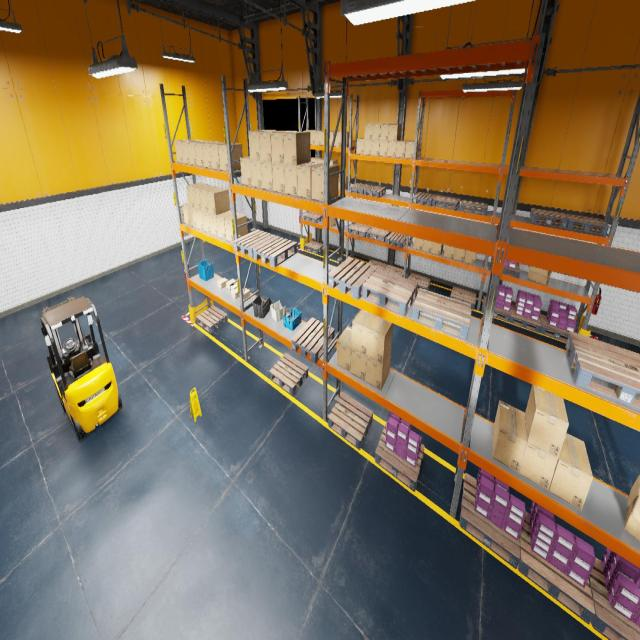box: (549, 433, 593, 510), (525, 385, 569, 458), (519, 413, 558, 490), (492, 400, 527, 472), (367, 316, 392, 364), (365, 347, 391, 390), (352, 309, 376, 355), (624, 474, 640, 541), (311, 164, 338, 202), (297, 162, 323, 198), (283, 132, 310, 164), (270, 131, 296, 164), (259, 130, 283, 162), (336, 325, 352, 372), (224, 213, 248, 243), (218, 143, 243, 171), (209, 142, 233, 170), (206, 187, 230, 215), (248, 130, 269, 160), (216, 210, 237, 240), (192, 184, 214, 210), (199, 186, 220, 213), (202, 142, 222, 168), (194, 141, 214, 167), (187, 140, 207, 166), (186, 183, 206, 208), (351, 348, 366, 381), (527, 266, 552, 285), (181, 140, 200, 164), (174, 139, 193, 163), (272, 162, 285, 194), (284, 164, 297, 196), (260, 161, 272, 191), (250, 160, 262, 188), (240, 157, 251, 186), (405, 140, 418, 159), (388, 124, 402, 140), (396, 140, 408, 158), (364, 124, 377, 140), (209, 214, 218, 236), (194, 208, 203, 230), (188, 206, 197, 228), (339, 173, 350, 190), (464, 250, 476, 265), (340, 132, 352, 147), (202, 211, 210, 233), (182, 203, 190, 225), (431, 242, 443, 255), (454, 248, 465, 262), (388, 140, 397, 157), (379, 140, 388, 156), (380, 124, 389, 140), (372, 124, 381, 140), (444, 245, 454, 259), (422, 239, 432, 253), (314, 130, 324, 144), (309, 130, 319, 144), (329, 131, 338, 146), (371, 140, 380, 155), (364, 139, 372, 155), (356, 138, 364, 154), (321, 131, 330, 145), (413, 238, 423, 250), (230, 278, 238, 292), (334, 131, 341, 146), (218, 278, 228, 288), (226, 279, 236, 289), (231, 287, 239, 299), (243, 288, 250, 300), (329, 216, 336, 226), (321, 159, 332, 163), (338, 174, 341, 188), (330, 159, 338, 164), (314, 158, 324, 162), (311, 157, 319, 162)
forklift: (40, 296, 122, 440)
pallets: (518, 511, 595, 624), (565, 330, 640, 410), (459, 473, 520, 568), (588, 558, 640, 640), (375, 422, 424, 492), (411, 288, 471, 341), (362, 268, 418, 316), (328, 392, 373, 449), (328, 257, 378, 299), (292, 318, 334, 363), (270, 353, 308, 396), (253, 236, 297, 267), (233, 229, 275, 258), (564, 213, 608, 235), (509, 304, 542, 332), (196, 305, 228, 333), (539, 314, 569, 342), (530, 208, 568, 228), (481, 296, 510, 322), (451, 286, 476, 310), (490, 257, 520, 277), (432, 195, 460, 210), (460, 200, 488, 215), (408, 272, 430, 290), (412, 192, 437, 206), (366, 227, 389, 242), (386, 232, 406, 248), (349, 224, 371, 238), (364, 185, 386, 198), (366, 259, 387, 271), (349, 183, 370, 195), (305, 240, 323, 253), (384, 265, 403, 277), (304, 211, 322, 223)
